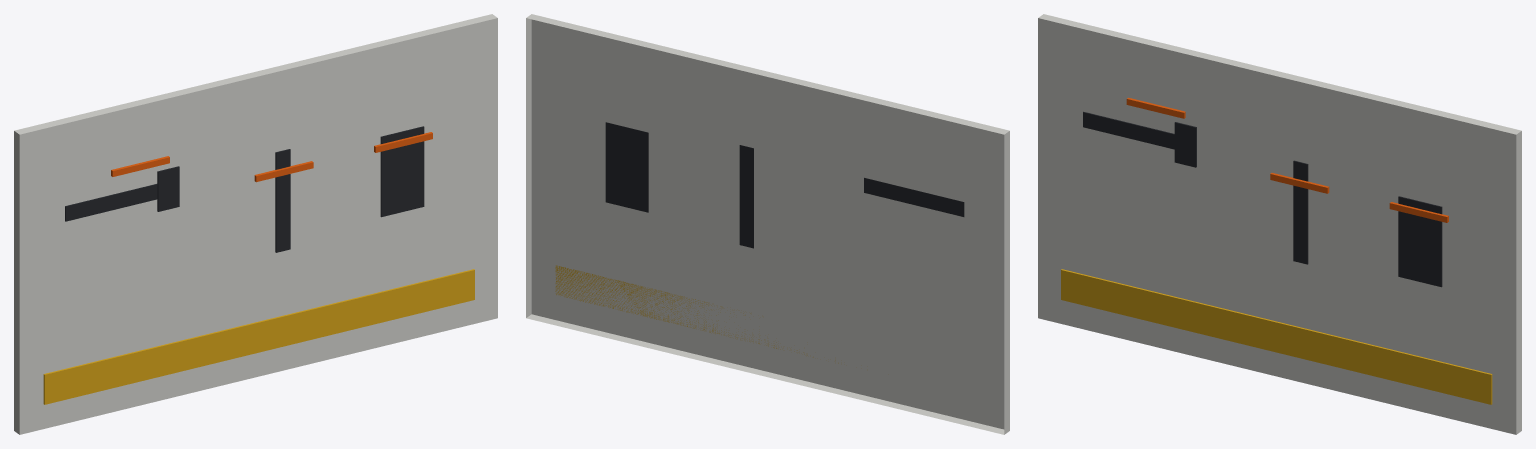
The model's file is SM_Tablero_Sombras.fbx.
3 renders of one model, left to right at view 1: azimuth 30°, elevation 25°; view 2: azimuth 150°, elevation 25°; view 3: azimuth 330°, elevation 25°, orthographic.
Visible parts, largest first — view 1: SM_Tablero_Sombras; view 2: SM_Tablero_Sombras; view 3: SM_Tablero_Sombras.
Boxes of the visible parts, left/top/right/bottom form: SM_Tablero_Sombras: left=14, top=14, right=497, bottom=434; SM_Tablero_Sombras: left=526, top=14, right=1009, bottom=434; SM_Tablero_Sombras: left=1038, top=14, right=1521, bottom=434.
Size of the model in its own units: 1 by 0.6 by 0.028.
